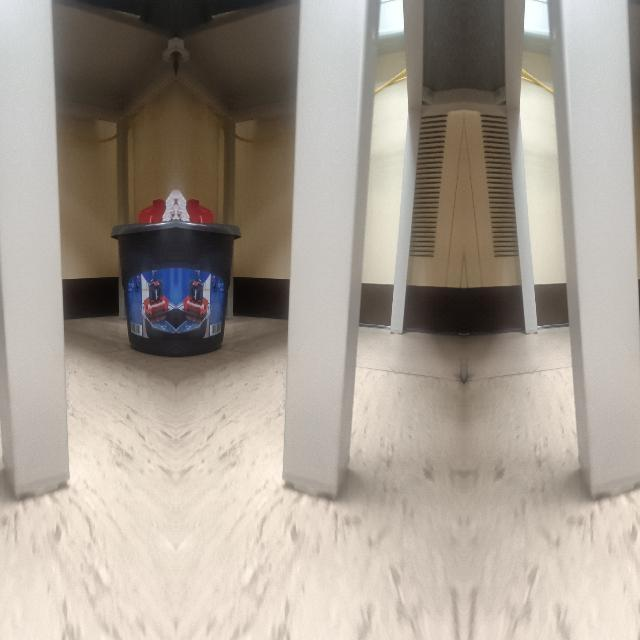obstacle: (280, 237, 366, 499), (562, 237, 640, 499), (0, 237, 69, 499)
